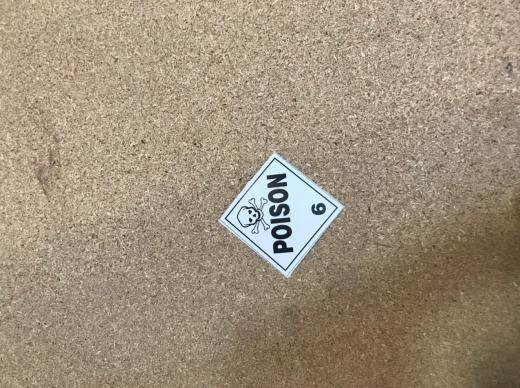poison: (217, 152, 345, 282)
